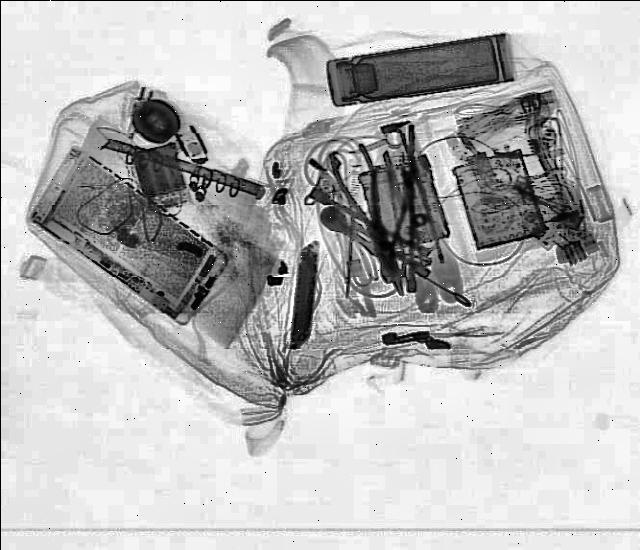Pliers: (322, 143, 420, 300), (362, 170, 410, 286)
